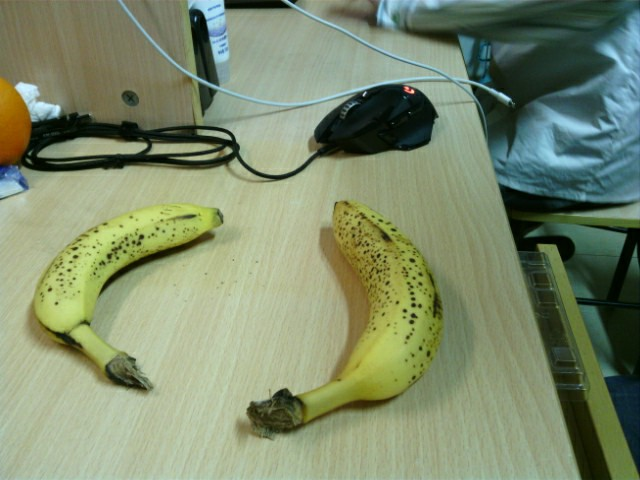normal_banana: (248, 199, 445, 437), (30, 205, 223, 394)
